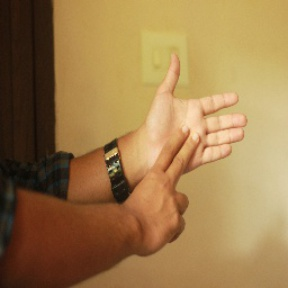N: (129, 52, 250, 240)
